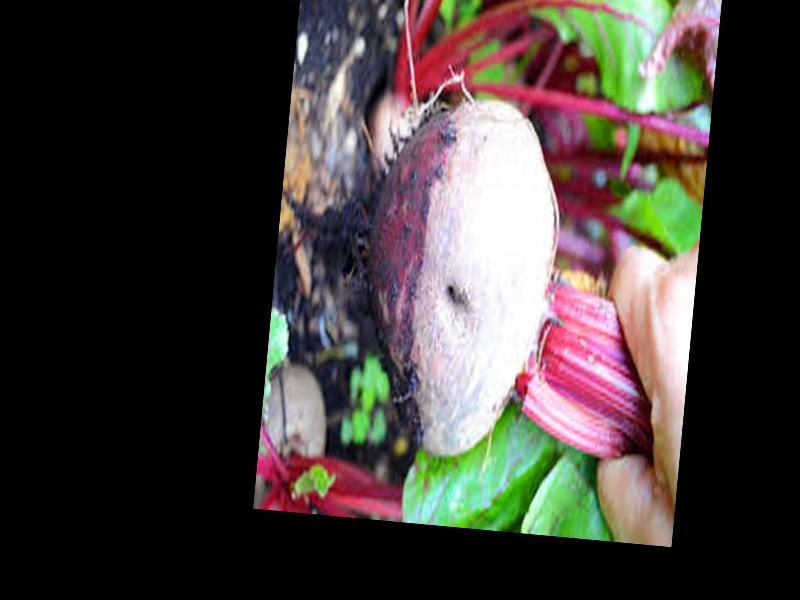Beet: (259, 78, 683, 474)
